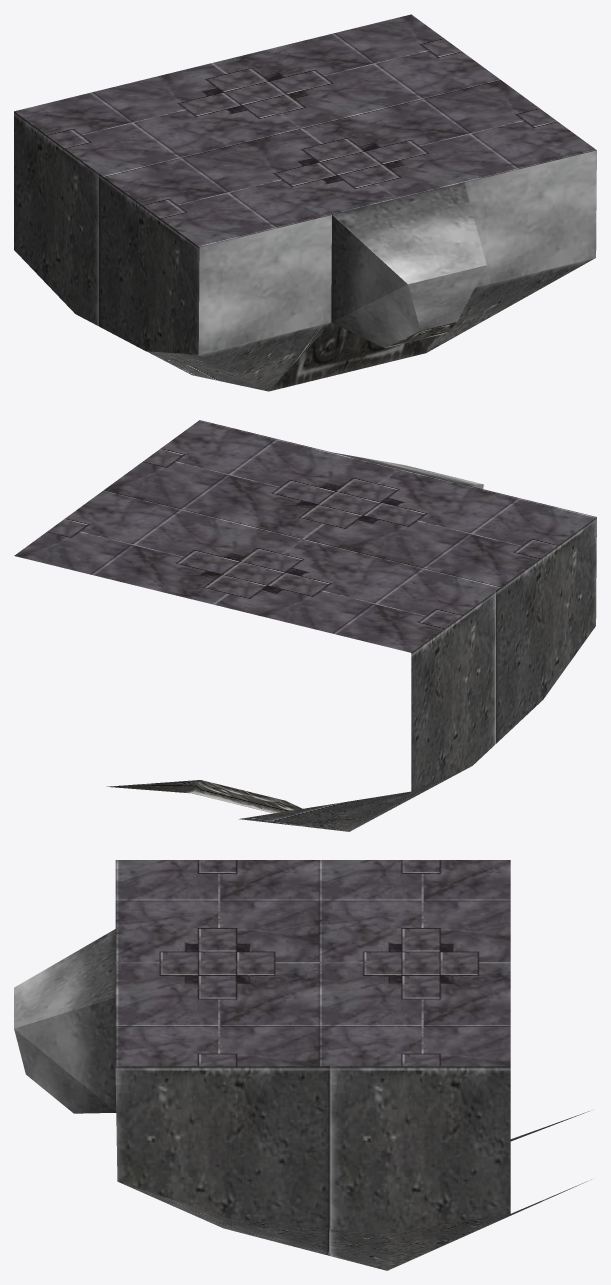
The picture shows the model from 3 angles, top to bottom: view 1: azimuth 30°, elevation 25°; view 2: azimuth 150°, elevation 25°; view 3: azimuth 270°, elevation 25°; orthographic projection. The views are drawn at different scales.
Visible parts, largest first — view 1: model_Object35; view 2: model_Object35; view 3: model_Object35.
Part boxes in pixels (bbox=[...]): model_Object35: bbox=[14, 14, 596, 391]; model_Object35: bbox=[14, 420, 596, 831]; model_Object35: bbox=[14, 860, 591, 1270].
Size of the model in its own units: 3 by 1.81 by 3.58.
Materials: 5 (5 with a texture image).
